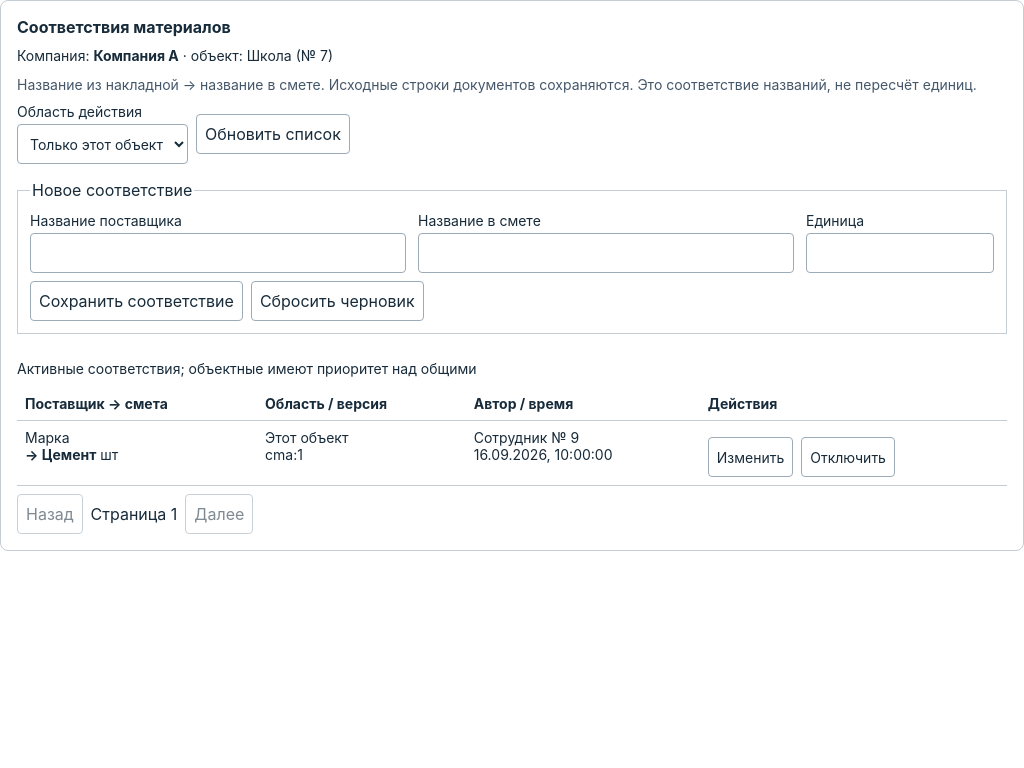
it: deactivation requires confirmation and preserves branded ID
This screenshot has width=1024, height=768.
Click the button "Отключить" at (848, 457), box [801, 437, 895, 477]
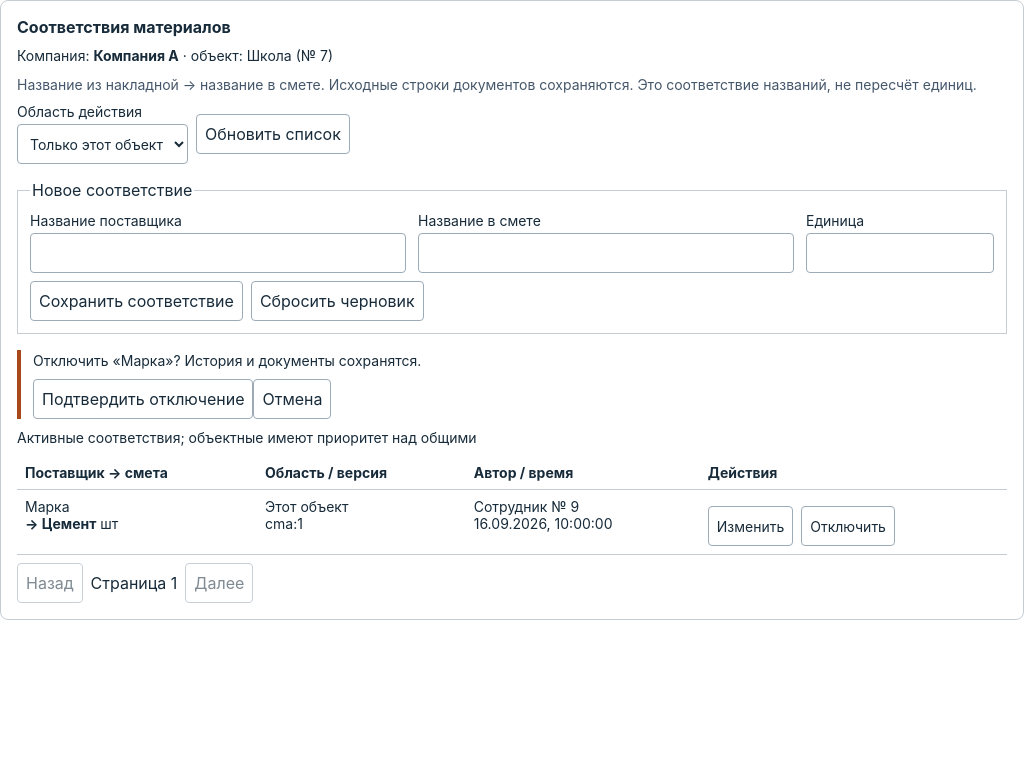
Click the button "Подтвердить отключение" at (143, 399), box [33, 379, 254, 419]
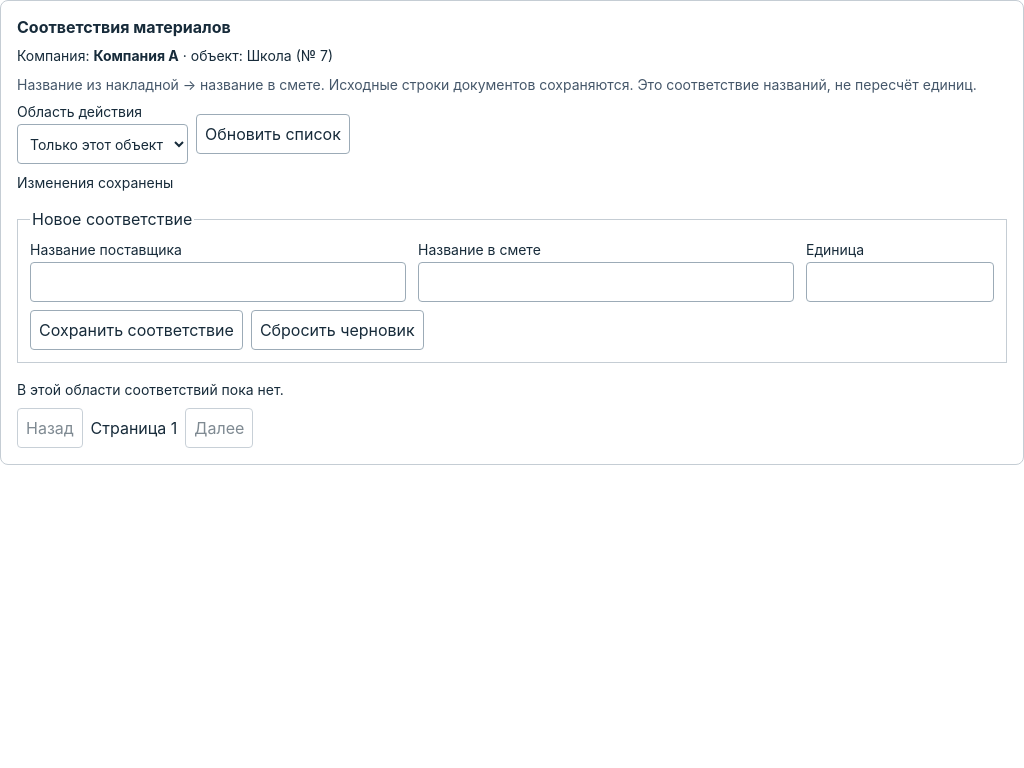
Check: the text "Изменения сохранены" is shown, box [17, 174, 173, 191]
